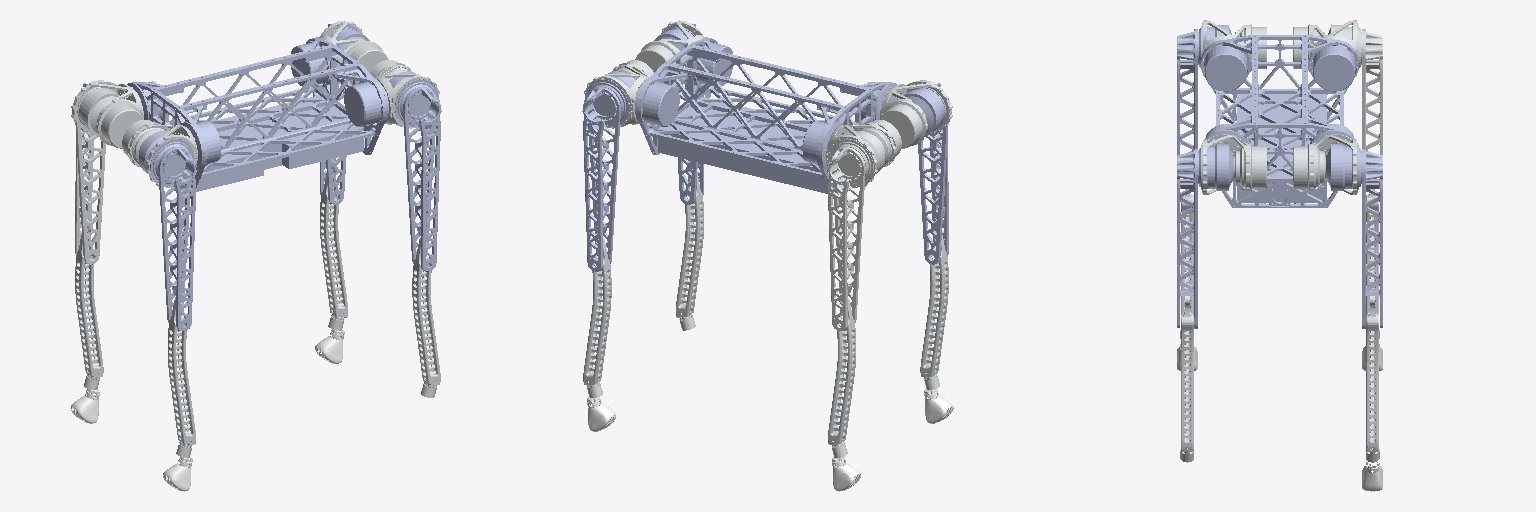
URDF robot description (quadruped):
<?xml version="1.0" encoding="utf-8"?>
<!-- This URDF was automatically created by SolidWorks to URDF Exporter! Originally created by [author] ([email redacted]) 
     Commit Version: 1.6.0-1-g15f4949  Build Version: 1.6.7594.29634
     For more information, please see http://wiki.ros.org/sw_urdf_exporter -->
<robot
  name="quadruped">  
  <mujoco>
    <compiler 
      meshdir="../meshes/" 
      balanceinertia="true"
      discardvisual="false" />
    </mujoco>
      <link name="world" />
  <joint name="floating_base_joint" type="floating">
   <origin xyz="0 0 0" rpy="0 0 0" />
   <parent link="world" />
   <child link="base_link" />
  </joint>
  <link
    name="base_link">
    <inertial>
      <origin
        xyz="-0.000092 0.001447 -0.042478"
        rpy="0 0 0" />
      <mass
        value="26.5" />
      <inertia
        ixx="0.259494841"
        ixy="-4.1227E-05"
        ixz="1.93862E-04"
        iyy="0.859939262"
        iyz="-2.040130E-03"
        izz="0.945567440" />
    </inertial>
    <visual>
      <origin
        xyz="0 0 0"
        rpy="0 0 0" />
      <geometry>
        <mesh
          filename="package://quadruped/meshes/base_link.STL" />
      </geometry>
      <material
        name="">
        <color
          rgba="0.79216 0.81961 0.93333 1" />
      </material>
    </visual>
    <collision>
      <origin
        xyz="0 0 0"
        rpy="0 0 0" />
      <geometry>
        <mesh
          filename="package://quadruped/meshes/base_link.STL" />
      </geometry>
    </collision>
  </link>
  <link
    name="Abd1Link">
    <inertial>
      <origin
        xyz="0.050570 0.046892 1.0E-06"
        rpy="0 0 0" />
      <mass
        value="1.656" />
      <inertia
        ixx="0.002476692"
        ixy="4.00827E-04"
        ixz="3.0E-09"
        iyy="2.206021E-03"
        iyz="-5.9E-08"
        izz="2.653852E-03" />
    </inertial>
    <visual>
      <origin
        xyz="0 0 0"
        rpy="0 0 0" />
      <geometry>
        <mesh
          filename="package://quadruped/meshes/Abd1Link.STL" />
      </geometry>
      <material
        name="">
        <color
          rgba="0.89804 0.91765 0.92941 1" />
      </material>
    </visual>
    <collision>
      <origin
        xyz="0 0 0"
        rpy="0 0 0" />
      <geometry>
        <mesh
          filename="package://quadruped/meshes/Abd1Link.STL" />
      </geometry>
    </collision>
  </link>
  <joint
    name="Abd1Joint"
    type="revolute">
    <origin
      xyz="0.244 -0.115 0"
      rpy="0 0 0" />
    <parent
      link="base_link" />
    <child
      link="Abd1Link" />
    <axis
      xyz="1 0 0" />
    <limit
      effort="0"
      velocity="0" />
  </joint>
  <link
    name="Hip1Link">
    <inertial>
      <origin
        xyz="-0.00063 -0.0201 -0.15827"
        rpy="0 0 0" />
      <mass
        value="1.337" />
      <inertia
        ixx="0.018816808"
        ixy="-3.29929E-05"
        ixz="0.000792"
        iyy="0.018864419"
        iyz="0.000185"
        izz="0.000837451" />
    </inertial>
    <visual>
      <origin
        xyz="0 0 0"
        rpy="0 0 0" />
      <geometry>
        <mesh
          filename="package://quadruped/meshes/Hip1Link.STL" />
      </geometry>
      <material
        name="">
        <color
          rgba="0.79216 0.81961 0.93333 1" />
      </material>
    </visual>
    <collision>
      <origin
        xyz="0 0 0"
        rpy="0 0 0" />
      <geometry>
        <mesh
          filename="package://quadruped/meshes/Hip1Link.STL" />
      </geometry>
    </collision>
  </link>
  <joint
    name="Hip1Joint"
    type="revolute">
    <origin
      xyz="0.056 0.018587 0"
      rpy="0 0 0" />
    <parent
      link="Abd1Link" />
    <child
      link="Hip1Link" />
    <axis
      xyz="0 -1 0" />
    <limit
      effort="0"
      velocity="0" />
  </joint>
  <link
    name="Knee1Link">
    <inertial>
      <origin
        xyz="-0.00517 0 -0.12521"
        rpy="0 0 0" />
      <mass
        value="0.6489" />
      <inertia
        ixx="0.006478288"
        ixy="2.4E-10"
        ixz="-0.00013"
        iyy="0.006528945"
        iyz="-1.015E-08"
        izz="0.00013568" />
    </inertial>
    <visual>
      <origin
        xyz="0 0 0"
        rpy="0 0 0" />
      <geometry>
        <mesh
          filename="package://quadruped/meshes/Knee1Link.STL" />
      </geometry>
      <material
        name="">
        <color
          rgba="0.898039215686275 0.917647058823529 0.929411764705882 1" />
      </material>
    </visual>
    <collision>
      <origin
        xyz="0 0 0"
        rpy="0 0 0" />
      <geometry>
        <mesh
          filename="package://quadruped/meshes/Knee1Link.STL" />
      </geometry>
    </collision>
  </link>
  <joint
    name="Knee1Joint"
    type="revolute">
    <origin
      xyz="0 -0.10009 -0.36"
      rpy="0 0 0" />
    <parent
      link="Hip1Link" />
    <child
      link="Knee1Link" />
    <axis
      xyz="0 -1 0" />
    <limit
      effort="0"
      velocity="0" />
  </joint>
  <link
    name="toe1Link">
    <inertial>
      <origin
        xyz="0.0011791 -0.00030084 -0.0024379"
        rpy="0 0 0" />
      <mass
        value="0.10321" />
      <inertia
        ixx="2.9572E-05"
        ixy="3.6317E-09"
        ixz="6.7484E-07"
        iyy="3.5401E-05"
        iyz="-9.1467E-09"
        izz="2.9167E-05" />
    </inertial>
    <visual>
      <origin
        xyz="0 0 0"
        rpy="0 0 0" />
      <geometry>
        <mesh
          filename="package://quadruped/meshes/toe1Link.STL" />
      </geometry>
      <material
        name="">
        <color
          rgba="1 1 1 1" />
      </material>
    </visual>
    <collision>
      <origin
        xyz="0 0 0"
        rpy="0 0 0" />
      <geometry>
        <mesh
          filename="package://quadruped/meshes/toe1Link.STL" />
      </geometry>
    </collision>
  </link>
  <joint
    name="toe1joint"
    type="fixed">
    <origin
      xyz="-0.00054829 0 -0.36"
      rpy="0 0 0" />
    <parent
      link="Knee1Link" />
    <child
      link="toe1Link" />
    <axis
      xyz="0 0 0" />
    <limit
      effort="0"
      velocity="0" />
  </joint>
  <link
    name="Abd2Link">
    <inertial>
      <origin
        xyz="-0.050570 0.046982 -1.0E-06"
        rpy="0 0 0" />
      <mass
        value="1.656" />
      <inertia
        ixx="0.002476692"
        ixy="-4.00827E-04"
        ixz="3.0E-09"
        iyy="2.206021E-03"
        iyz="5.9E-08"
        izz="2.653852E-03" />
    </inertial>
    <visual>
      <origin
        xyz="0 0 0"
        rpy="0 0 0" />
      <geometry>
        <mesh
          filename="package://quadruped/meshes/Abd2Link.STL" />
      </geometry>
      <material
        name="">
        <color
          rgba="0.89804 0.91765 0.92941 1" />
      </material>
    </visual>
    <collision>
      <origin
        xyz="0 0 0"
        rpy="0 0 0" />
      <geometry>
        <mesh
          filename="package://quadruped/meshes/Abd2Link.STL" />
      </geometry>
    </collision>
  </link>
  <joint
    name="Abd2Joint"
    type="revolute">
    <origin
      xyz="-0.244 -0.115 0"
      rpy="0 0 0" />
    <parent
      link="base_link" />
    <child
      link="Abd2Link" />
    <axis
      xyz="1 0 0" />
    <limit
      effort="0"
      velocity="0" />
  </joint>
  <link
    name="Hip2Link">
    <inertial>
      <origin
        xyz="-0.00063 -0.0201 -0.15827"
        rpy="0 0 0" />
      <mass
        value="1.337" />
      <inertia
        ixx="0.018816808"
        ixy="-3.29929E-05"
        ixz="0.000792"
        iyy="0.018864419"
        iyz="0.000185"
        izz="0.000837451" />
    </inertial>
    <visual>
      <origin
        xyz="0 0 0"
        rpy="0 0 0" />
      <geometry>
        <mesh
          filename="package://quadruped/meshes/Hip2Link.STL" />
      </geometry>
      <material
        name="">
        <color
          rgba="0.79216 0.81961 0.93333 1" />
      </material>
    </visual>
    <collision>
      <origin
        xyz="0 0 0"
        rpy="0 0 0" />
      <geometry>
        <mesh
          filename="package://quadruped/meshes/Hip2Link.STL" />
      </geometry>
    </collision>
  </link>
  <joint
    name="Hip2Joint"
    type="revolute">
    <origin
      xyz="-0.056 0.018587 0"
      rpy="0 0 0" />
    <parent
      link="Abd2Link" />
    <child
      link="Hip2Link" />
    <axis
      xyz="0 -1 0" />
    <limit
      effort="0"
      velocity="0" />
  </joint>
  <link
    name="Knee2Link">
    <inertial>
      <origin
        xyz="-0.00517 0 -0.12521"
        rpy="0 0 0" />
      <mass
        value="0.6489" />
      <inertia
        ixx="0.006478288"
        ixy="2.4E-10"
        ixz="-0.00013"
        iyy="0.006528945"
        iyz="-1.015E-08"
        izz="0.00013568" />
    </inertial>
    <visual>
      <origin
        xyz="0 0 0"
        rpy="0 0 0" />
      <geometry>
        <mesh
          filename="package://quadruped/meshes/Knee2Link.STL" />
      </geometry>
      <material
        name="">
        <color
          rgba="0.89804 0.91765 0.92941 1" />
      </material>
    </visual>
    <collision>
      <origin
        xyz="0 0 0"
        rpy="0 0 0" />
      <geometry>
        <mesh
          filename="package://quadruped/meshes/Knee2Link.STL" />
      </geometry>
    </collision>
  </link>
  <joint
    name="Knee2Joint"
    type="revolute">
    <origin
      xyz="0 -0.10009 -0.36"
      rpy="0 0 0" />
    <parent
      link="Hip2Link" />
    <child
      link="Knee2Link" />
    <axis
      xyz="0 -1 0" />
    <limit
      effort="0"
      velocity="0" />
  </joint>
  <link
    name="toe2Link">
    <inertial>
      <origin
        xyz="0.0011791 -0.00030085 -0.0024379"
        rpy="0 0 0" />
      <mass
        value="0.10321" />
      <inertia
        ixx="2.9572E-05"
        ixy="3.6261E-09"
        ixz="6.7484E-07"
        iyy="3.5401E-05"
        iyz="-9.1442E-09"
        izz="2.9167E-05" />
    </inertial>
    <visual>
      <origin
        xyz="0 0 0"
        rpy="0 0 0" />
      <geometry>
        <mesh
          filename="package://quadruped/meshes/toe2Link.STL" />
      </geometry>
      <material
        name="">
        <color
          rgba="1 1 1 1" />
      </material>
    </visual>
    <collision>
      <origin
        xyz="0 0 0"
        rpy="0 0 0" />
      <geometry>
        <mesh
          filename="package://quadruped/meshes/toe2Link.STL" />
      </geometry>
    </collision>
  </link>
  <joint
    name="toe2Joint"
    type="fixed">
    <origin
      xyz="-0.00054828 0 -0.36"
      rpy="0 0 0" />
    <parent
      link="Knee2Link" />
    <child
      link="toe2Link" />
    <axis
      xyz="0 0 0" />
    <limit
      effort="0"
      velocity="0" />
  </joint>
  <link
    name="Abd3Link">
    <inertial>
      <origin
        xyz="0.050570 -0.046982 -1.0E-06"
        rpy="0 0 0" />
      <mass
        value="1.656" />
      <inertia
        ixx="0.002476692"
        ixy="-4.00827E-04"
        ixz="-3.0E-09"
        iyy="2.206021E-03"
        iyz="-5.9E-08"
        izz="2.653852E-03" />
    </inertial>
    <visual>
      <origin
        xyz="0 0 0"
        rpy="0 0 0" />
      <geometry>
        <mesh
          filename="package://quadruped/meshes/Abd3Link.STL" />
      </geometry>
      <material
        name="">
        <color
          rgba="0.89804 0.91765 0.92941 1" />
      </material>
    </visual>
    <collision>
      <origin
        xyz="0 0 0"
        rpy="0 0 0" />
      <geometry>
        <mesh
          filename="package://quadruped/meshes/Abd3Link.STL" />
      </geometry>
    </collision>
  </link>
  <joint
    name="Abd3Joint"
    type="revolute">
    <origin
      xyz="0.244 0.115 0"
      rpy="0 0 0" />
    <parent
      link="base_link" />
    <child
      link="Abd3Link" />
    <axis
      xyz="1 0 0" />
    <limit
      effort="0"
      velocity="0" />
  </joint>
  <link
    name="Hip3Link">
    <inertial>
      <origin
        xyz="-0.00063 0.0201 -0.15827"
        rpy="0 0 0" />
      <mass
        value="1.337" />
      <inertia
        ixx="0.018816835"
        ixy="-3.29964E-05"
        ixz="0.000792"
        iyy="0.018864405"
        iyz="0.000185353"
        izz="0.000837413" />
    </inertial>
    <visual>
      <origin
        xyz="0 0 0"
        rpy="0 0 0" />
      <geometry>
        <mesh
          filename="package://quadruped/meshes/Hip3Link.STL" />
      </geometry>
      <material
        name="">
        <color
          rgba="0.79216 0.81961 0.93333 1" />
      </material>
    </visual>
    <collision>
      <origin
        xyz="0 0 0"
        rpy="0 0 0" />
      <geometry>
        <mesh
          filename="package://quadruped/meshes/Hip3Link.STL" />
      </geometry>
    </collision>
  </link>
  <joint
    name="Hip3Joint"
    type="revolute">
    <origin
      xyz="0.056 -0.018587 0"
      rpy="0 0 0" />
    <parent
      link="Abd3Link" />
    <child
      link="Hip3Link" />
    <axis
      xyz="0 -1 0" />
    <limit
      effort="0"
      velocity="0" />
  </joint>
  <link
    name="Knee3Link">
    <inertial>
      <origin
        xyz="-0.00517 0 -0.12521"
        rpy="0 0 0" />
      <mass
        value="0.6489" />
      <inertia
        ixx="0.006478288"
        ixy="2.4E-10"
        ixz="-0.00013"
        iyy="0.006528945"
        iyz="-1.015E-08"
        izz="0.00013568" />
    </inertial>
    <visual>
      <origin
        xyz="0 0 0"
        rpy="0 0 0" />
      <geometry>
        <mesh
          filename="package://quadruped/meshes/Knee3Link.STL" />
      </geometry>
      <material
        name="">
        <color
          rgba="0.89804 0.91765 0.92941 1" />
      </material>
    </visual>
    <collision>
      <origin
        xyz="0 0 0"
        rpy="0 0 0" />
      <geometry>
        <mesh
          filename="package://quadruped/meshes/Knee3Link.STL" />
      </geometry>
    </collision>
  </link>
  <joint
    name="Knee3Joint"
    type="revolute">
    <origin
      xyz="0 0.10009 -0.36"
      rpy="0 0 0" />
    <parent
      link="Hip3Link" />
    <child
      link="Knee3Link" />
    <axis
      xyz="0 -1 0" />
    <limit
      effort="0"
      velocity="0" />
  </joint>
  <link
    name="toe3Link">
    <inertial>
      <origin
        xyz="0.0011791 9.9156E-05 -0.0024379"
        rpy="0 0 0" />
      <mass
        value="0.10321" />
      <inertia
        ixx="2.9572E-05"
        ixy="3.6295E-09"
        ixz="6.7484E-07"
        iyy="3.5401E-05"
        iyz="-9.1457E-09"
        izz="2.9167E-05" />
    </inertial>
    <visual>
      <origin
        xyz="0 0 0"
        rpy="0 0 0" />
      <geometry>
        <mesh
          filename="package://quadruped/meshes/toe3Link.STL" />
      </geometry>
      <material
        name="">
        <color
          rgba="1 1 1 1" />
      </material>
    </visual>
    <collision>
      <origin
        xyz="0 0 0"
        rpy="0 0 0" />
      <geometry>
        <mesh
          filename="package://quadruped/meshes/toe3Link.STL" />
      </geometry>
    </collision>
  </link>
  <joint
    name="toe3Joint"
    type="fixed">
    <origin
      xyz="-0.00054828 0 -0.36"
      rpy="0 0 0" />
    <parent
      link="Knee3Link" />
    <child
      link="toe3Link" />
    <axis
      xyz="0 0 0" />
    <limit
      effort="0"
      velocity="0" />
  </joint>
  <link
    name="Abd4Link">
    <inertial>
      <origin
        xyz="-0.050570 -0.046982 1.0E-06"
        rpy="0 0 0" />
      <mass
        value="1.656" />
      <inertia
        ixx="0.002476692"
        ixy="4.00827E-04"
        ixz="-3.0E-09"
        iyy="2.206021E-03"
        iyz="5.9E-08"
        izz="2.653852E-03" />
    </inertial>
    <visual>
      <origin
        xyz="0 0 0"
        rpy="0 0 0" />
      <geometry>
        <mesh
          filename="package://quadruped/meshes/Abd4Link.STL" />
      </geometry>
      <material
        name="">
        <color
          rgba="0.89804 0.91765 0.92941 1" />
      </material>
    </visual>
    <collision>
      <origin
        xyz="0 0 0"
        rpy="0 0 0" />
      <geometry>
        <mesh
          filename="package://quadruped/meshes/Abd4Link.STL" />
      </geometry>
    </collision>
  </link>
  <joint
    name="Abd4Joint"
    type="revolute">
    <origin
      xyz="-0.244 0.115 0"
      rpy="0 0 0" />
    <parent
      link="base_link" />
    <child
      link="Abd4Link" />
    <axis
      xyz="1 0 0" />
    <limit
      effort="0"
      velocity="0" />
  </joint>
  <link
    name="Hip4Link">
    <inertial>
      <origin
        xyz="-0.00063 0.0201 -0.15827"
        rpy="0 0 0" />
      <mass
        value="1.337" />
      <inertia
        ixx="0.018816835"
        ixy="-3.29964E-05"
        ixz="0.000792"
        iyy="0.018864405"
        iyz="0.000185353"
        izz="0.000837413" />
    </inertial>
    <visual>
      <origin
        xyz="0 0 0"
        rpy="0 0 0" />
      <geometry>
        <mesh
          filename="package://quadruped/meshes/Hip4Link.STL" />
      </geometry>
      <material
        name="">
        <color
          rgba="0.89804 0.91765 0.92941 1" />
      </material>
    </visual>
    <collision>
      <origin
        xyz="0 0 0"
        rpy="0 0 0" />
      <geometry>
        <mesh
          filename="package://quadruped/meshes/Hip4Link.STL" />
      </geometry>
    </collision>
  </link>
  <joint
    name="Hip4Joint"
    type="revolute">
    <origin
      xyz="-0.056 -0.018588 0"
      rpy="0 0 0" />
    <parent
      link="Abd4Link" />
    <child
      link="Hip4Link" />
    <axis
      xyz="0 -1 0" />
    <limit
      effort="0"
      velocity="0" />
  </joint>
  <link
    name="Knee4Link">
    <inertial>
      <origin
        xyz="-0.00517 0 -0.12521"
        rpy="0 0 0" />
      <mass
        value="0.6489" />
      <inertia
        ixx="0.006478288"
        ixy="2.4E-10"
        ixz="-0.00013"
        iyy="0.006528945"
        iyz="-1.015E-08"
        izz="0.00013568" />
    </inertial>
    <visual>
      <origin
        xyz="0 0 0"
        rpy="0 0 0" />
      <geometry>
        <mesh
          filename="package://quadruped/meshes/Knee4Link.STL" />
      </geometry>
      <material
        name="">
        <color
          rgba="0.89804 0.91765 0.92941 1" />
      </material>
    </visual>
    <collision>
      <origin
        xyz="0 0 0"
        rpy="0 0 0" />
      <geometry>
        <mesh
          filename="package://quadruped/meshes/Knee4Link.STL" />
      </geometry>
    </collision>
  </link>
  <joint
    name="Knee4Joint"
    type="revolute">
    <origin
      xyz="0 0.10009 -0.36"
      rpy="0 0 0" />
    <parent
      link="Hip4Link" />
    <child
      link="Knee4Link" />
    <axis
      xyz="0 -1 0" />
    <limit
      effort="0"
      velocity="0" />
  </joint>
  <link
    name="toe4Link">
    <inertial>
      <origin
        xyz="0.0011791 0.00049916 -0.0024379"
        rpy="0 0 0" />
      <mass
        value="0.10321" />
      <inertia
        ixx="2.9572E-05"
        ixy="3.6351E-09"
        ixz="6.7483E-07"
        iyy="3.5401E-05"
        iyz="-9.1482E-09"
        izz="2.9167E-05" />
    </inertial>
    <visual>
      <origin
        xyz="0 0 0"
        rpy="0 0 0" />
      <geometry>
        <mesh
          filename="package://quadruped/meshes/toe4Link.STL" />
      </geometry>
      <material
        name="">
        <color
          rgba="1 1 1 1" />
      </material>
    </visual>
    <collision>
      <origin
        xyz="0 0 0"
        rpy="0 0 0" />
      <geometry>
        <mesh
          filename="package://quadruped/meshes/toe4Link.STL" />
      </geometry>
    </collision>
  </link>
  <joint
    name="toe4Joint"
    type="fixed">
    <origin
      xyz="-0.00054828 0 -0.36"
      rpy="0 0 0" />
    <parent
      link="Knee4Link" />
    <child
      link="toe4Link" />
    <axis
      xyz="0 0 0" />
    <limit
      effort="0"
      velocity="0" />
  </joint>
</robot>

--- Facts derived from the render (not from the file) ---
Views: 3 orthographic renders of the robot side by side, from view 1: azimuth 30°, elevation 25°; view 2: azimuth 150°, elevation 25°; view 3: azimuth 270°, elevation 25°.
Robot: quadruped — 18 links, 17 joints (12 revolute, 4 fixed, 1 floating); root link world; default pose: every joint at zero.
Visible links, largest first — view 1: base_link, Hip2Link, Hip1Link, Hip4Link, Knee1Link, Knee2Link, Knee4Link, Knee3Link, Abd4Link, Abd2Link, Hip3Link, Abd3Link (+4 smaller); view 2: base_link, Hip4Link, Hip3Link, Hip2Link, Knee3Link, Knee4Link, Knee2Link, Knee1Link, Abd2Link, Abd4Link, Abd1Link, Hip1Link (+4 smaller); view 3: base_link, Hip1Link, Hip3Link, Hip4Link, Hip2Link, Knee3Link, Knee1Link, Abd3Link, Abd1Link, Abd2Link, Abd4Link, Knee4Link (+2 smaller).
Boxes of the visible links, x1,y1,x2,y2 form: base_link: [127, 37, 388, 198]; Hip2Link: [139, 131, 196, 330]; Hip1Link: [389, 71, 441, 271]; Hip4Link: [75, 83, 119, 264]; Knee1Link: [412, 237, 440, 397]; Knee2Link: [168, 297, 195, 457]; Knee4Link: [75, 229, 103, 389]; Knee3Link: [320, 169, 347, 330]; Abd4Link: [71, 80, 143, 148]; Abd2Link: [122, 120, 197, 187]; Hip3Link: [320, 24, 369, 204]; Abd3Link: [319, 20, 388, 84]; base_link: [635, 37, 896, 198]; Hip4Link: [827, 131, 884, 330]; Hip3Link: [582, 71, 634, 271]; Hip2Link: [904, 83, 948, 264]; Knee3Link: [583, 237, 611, 397]; Knee4Link: [828, 297, 855, 457]; Knee2Link: [920, 230, 948, 389]; Knee1Link: [676, 169, 703, 330]; Abd2Link: [880, 80, 952, 148]; Abd4Link: [826, 120, 901, 187]; Abd1Link: [635, 20, 704, 84]; Hip1Link: [654, 24, 703, 204]; base_link: [1201, 35, 1358, 207]; Hip1Link: [1177, 143, 1234, 328]; Hip3Link: [1325, 143, 1382, 328]; Hip4Link: [1328, 23, 1382, 154]; Hip2Link: [1177, 23, 1231, 154]; Knee3Link: [1366, 296, 1379, 462]; Knee1Link: [1180, 296, 1193, 462]; Abd3Link: [1293, 134, 1356, 194]; Abd1Link: [1203, 134, 1266, 194]; Abd2Link: [1203, 20, 1266, 75]; Abd4Link: [1293, 20, 1356, 75]; Knee4Link: [1366, 189, 1379, 338].
Bounding box of the posed robot: 0.7161 × 0.4385 × 0.8188 m (x, y, z).
Meshes: 17 distinct files referenced, 16 mesh visuals loaded (16 binary STL); not drawn: 1 (reference not matched to a file when rendering).